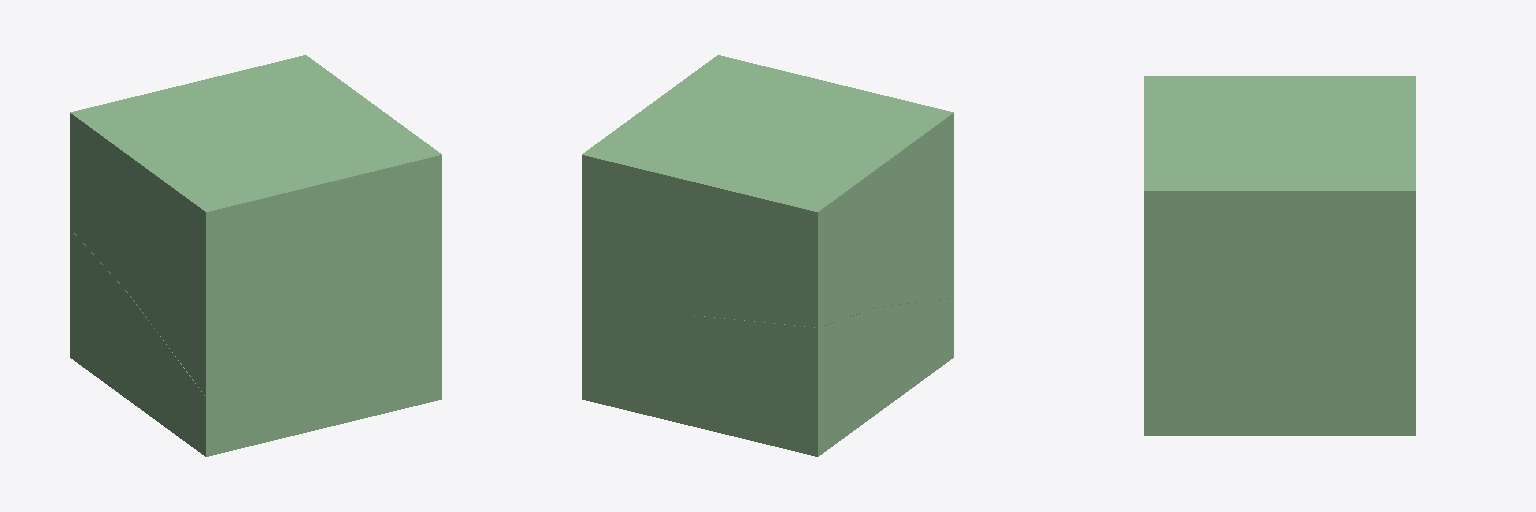
File: BreakableStick.obj
3 views of the same model, side by side, from view 1: azimuth 30°, elevation 25°; view 2: azimuth 150°, elevation 25°; view 3: azimuth 270°, elevation 25° (orthographic).
Visible parts, largest first — view 1: Fragment, Fragment1; view 2: Fragment, Fragment1; view 3: Fragment, Fragment1.
Part boxes in pixels (x1,y1,x2,y2): Fragment: (70, 55, 441, 396); Fragment1: (70, 229, 441, 456); Fragment: (582, 55, 953, 327); Fragment1: (582, 271, 953, 456); Fragment: (1144, 76, 1415, 378); Fragment1: (1144, 304, 1415, 435).
Bounding box in the file's own units: 1 × 0.99 × 1.